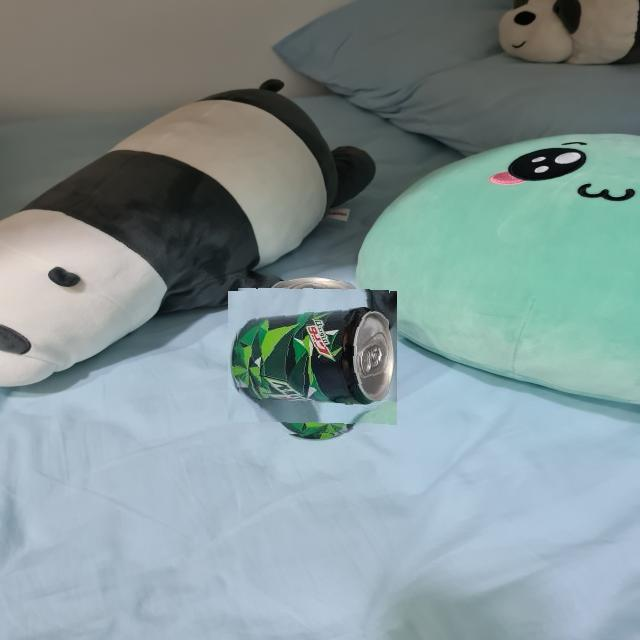recyclable: (235, 281, 389, 435)
